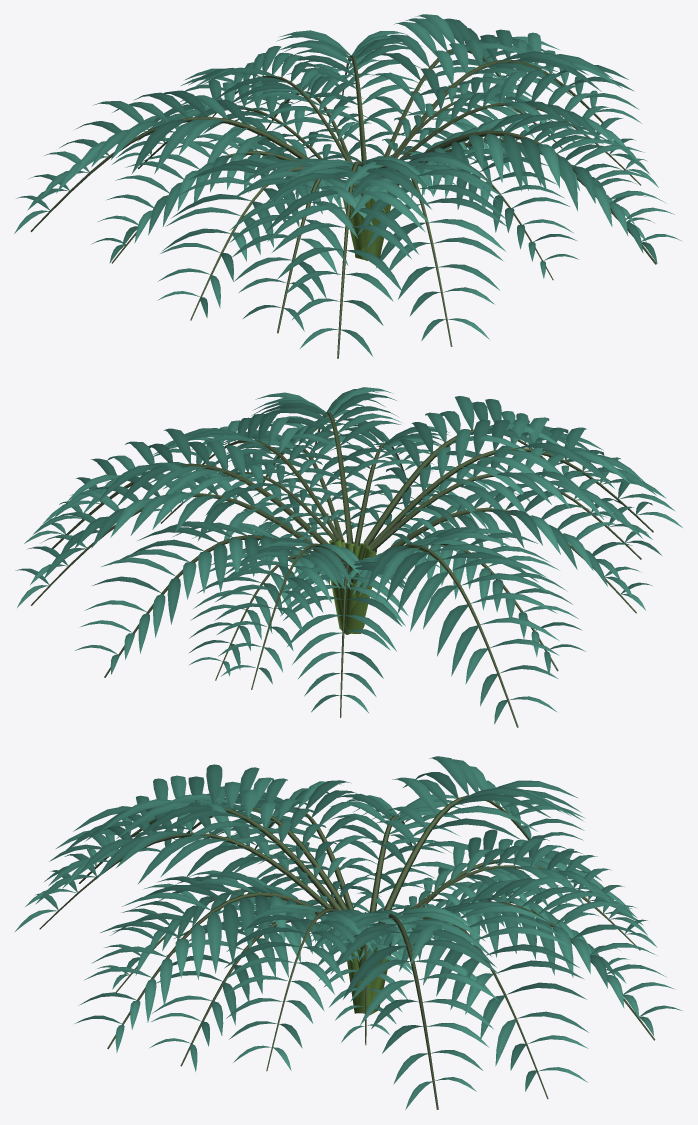
The model's file is Bank Maidenhair.glb.
The picture shows the model from 3 angles, top to bottom: view 1: azimuth 30°, elevation 25°; view 2: azimuth 150°, elevation 25°; view 3: azimuth 270°, elevation 25°; orthographic projection. The views are drawn at different scales.
Visible parts, largest first — view 1: Bank Maidenhair; view 2: Bank Maidenhair; view 3: Bank Maidenhair.
Part boxes in pixels (box(x1,y1,x2,y2)): Bank Maidenhair: box(14, 14, 682, 358); Bank Maidenhair: box(15, 387, 682, 727); Bank Maidenhair: box(15, 756, 682, 1109).
Size of the model in its own units: 1.27 by 0.3497 by 1.23.
